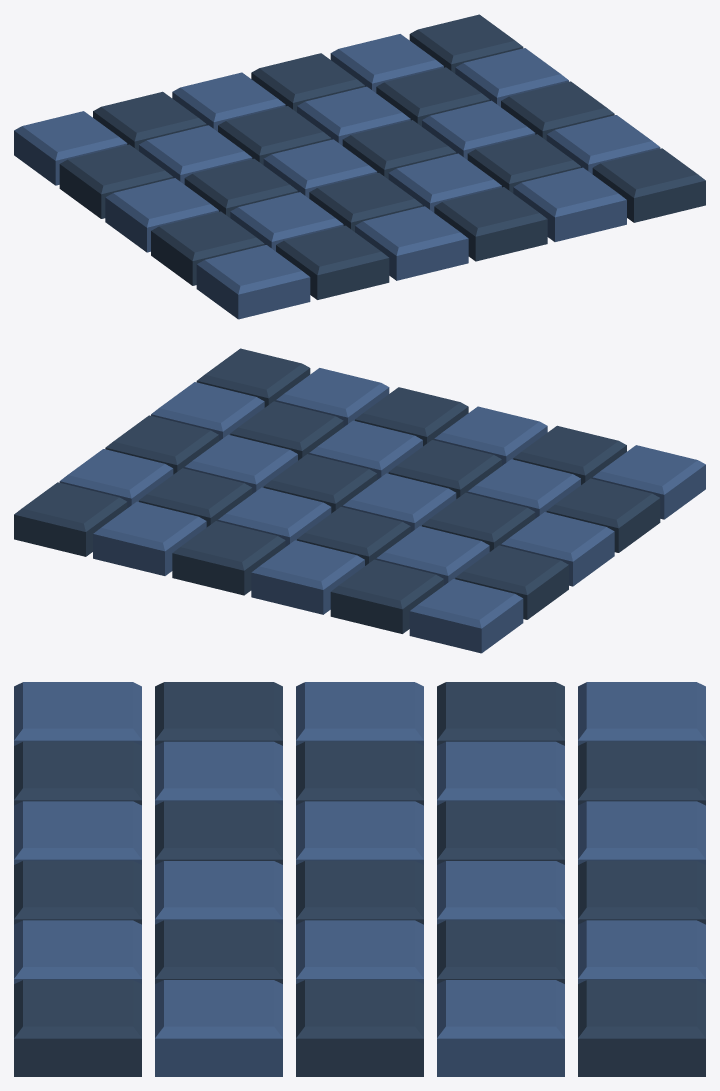
File: FLOOR.fbx
The picture shows the model from 3 angles, top to bottom: view 1: azimuth 30°, elevation 25°; view 2: azimuth 150°, elevation 25°; view 3: azimuth 270°, elevation 25°; orthographic projection. The views are drawn at different scales.
Visible parts, largest first — view 1: FLOOR.018, FLOOR.020, FLOOR.022, FLOOR.021, FLOOR.019, FLOOR.023, FLOOR.006, FLOOR, FLOOR.012, FLOOR.024, FLOOR.028, FLOOR.002 (+18 smaller); view 2: FLOOR.012, FLOOR.014, FLOOR.016, FLOOR.015, FLOOR.013, FLOOR.017, FLOOR.024, FLOOR, FLOOR.018, FLOOR.006, FLOOR.010, FLOOR.002 (+18 smaller); view 3: FLOOR.005, FLOOR.011, FLOOR.017, FLOOR.023, FLOOR.029, FLOOR.001, FLOOR.013, FLOOR.019, FLOOR.007, FLOOR.025, FLOOR, FLOOR.006 (+18 smaller).
Boxes of the visible parts, left/top/right/bottom form: FLOOR.018: left=196, top=245, right=310, bottom=319; FLOOR.020: left=355, top=206, right=468, bottom=280; FLOOR.022: left=513, top=167, right=626, bottom=241; FLOOR.021: left=434, top=187, right=547, bottom=261; FLOOR.019: left=276, top=225, right=389, bottom=299; FLOOR.023: left=592, top=148, right=705, bottom=222; FLOOR.006: left=59, top=144, right=173, bottom=218; FLOOR: left=105, top=178, right=218, bottom=252; FLOOR.012: left=14, top=111, right=127, bottom=185; FLOOR.024: left=151, top=211, right=264, bottom=285; FLOOR.028: left=467, top=134, right=580, bottom=193; FLOOR.002: left=263, top=139, right=377, bottom=198; FLOOR.012: left=409, top=579, right=523, bottom=653; FLOOR.014: left=251, top=540, right=364, bottom=614; FLOOR.016: left=93, top=501, right=206, bottom=575; FLOOR.015: left=172, top=521, right=285, bottom=595; FLOOR.013: left=330, top=559, right=443, bottom=633; FLOOR.017: left=14, top=482, right=127, bottom=556; FLOOR.024: left=546, top=478, right=660, bottom=552; FLOOR: left=501, top=512, right=614, bottom=586; FLOOR.018: left=592, top=445, right=705, bottom=519; FLOOR.006: left=455, top=545, right=568, bottom=619; FLOOR.010: left=139, top=468, right=252, bottom=527; FLOOR.002: left=342, top=473, right=456, bottom=532; FLOOR.005: left=296, top=980, right=423, bottom=1076; FLOOR.011: left=437, top=980, right=564, bottom=1076; FLOOR.017: left=578, top=980, right=705, bottom=1076; FLOOR.023: left=14, top=980, right=141, bottom=1076; FLOOR.029: left=155, top=980, right=282, bottom=1076; FLOOR.001: left=296, top=741, right=423, bottom=805; FLOOR.013: left=578, top=741, right=705, bottom=805; FLOOR.019: left=14, top=741, right=141, bottom=805; FLOOR.007: left=437, top=741, right=564, bottom=805; FLOOR.025: left=155, top=741, right=282, bottom=805; FLOOR: left=296, top=682, right=423, bottom=745; FLOOR.006: left=437, top=682, right=564, bottom=745.
Bounding box in the file's own units: 1300 × 80 × 1080.
